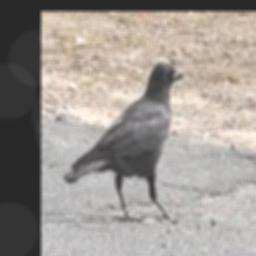Crow: (63, 61, 183, 224)
